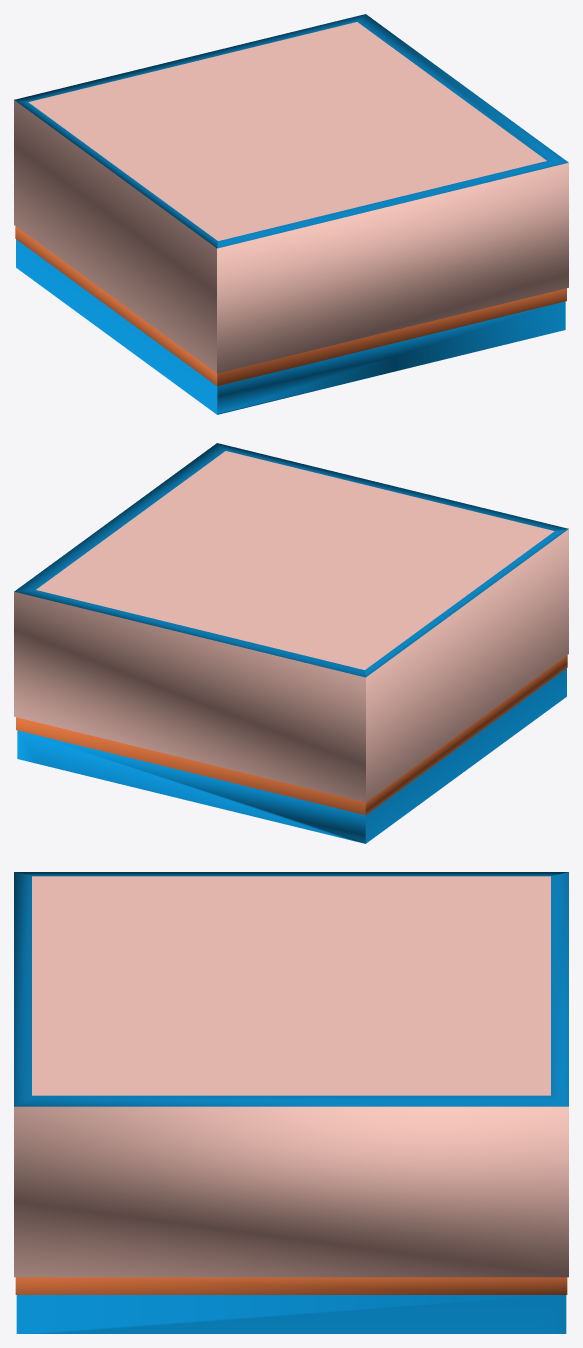
Rendered from test-box-two.glb.
3 renders of one model, top to bottom at view 1: azimuth 30°, elevation 25°; view 2: azimuth 150°, elevation 25°; view 3: azimuth 270°, elevation 25°, orthographic. The views are drawn at different scales.
Visible parts, largest first — view 1: Plane; view 2: Plane; view 3: Plane.
Part boxes in pixels (x1=…): Plane: x1=14, y1=14, x2=568, y2=414; Plane: x1=14, y1=443, x2=568, y2=843; Plane: x1=14, y1=872, x2=568, y2=1333.
Bounding box in the file's own units: 10.1 × 4.61 × 10.1.
1 material, 1 textured.
